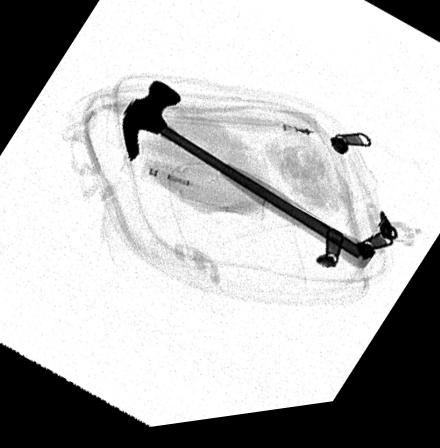Hammer: (120, 83, 376, 280)
